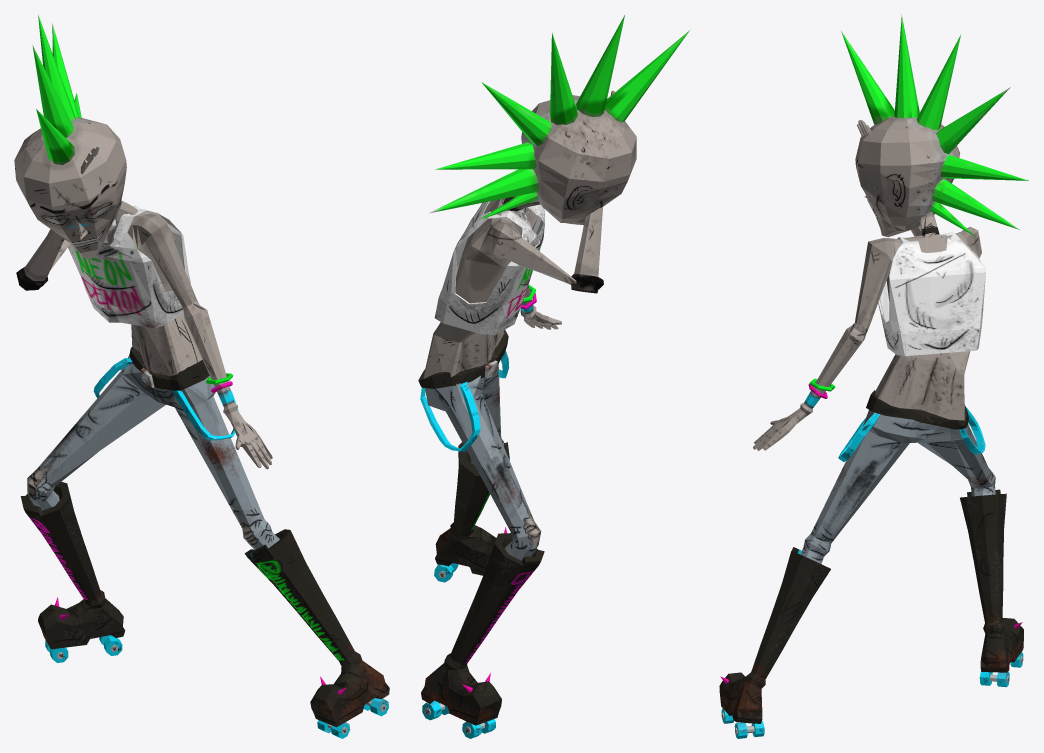
The model's file is punkAnimation_000068.obj.
3 views of the same model, side by side, from view 1: azimuth 30°, elevation 25°; view 2: azimuth 150°, elevation 25°; view 3: azimuth 270°, elevation 25° (orthographic). The views are drawn at different scales.
Visible parts, largest first — view 1: Cube.004_Cube.003; view 2: Cube.004_Cube.003; view 3: Cube.004_Cube.003.
Part boxes in pixels (left/top/right/bottom): Cube.004_Cube.003: left=14, top=14, right=389, bottom=738; Cube.004_Cube.003: left=418, top=15, right=689, bottom=738; Cube.004_Cube.003: left=719, top=14, right=1028, bottom=738.
Size of the model in its own units: 3.09 by 6.72 by 3.07.
